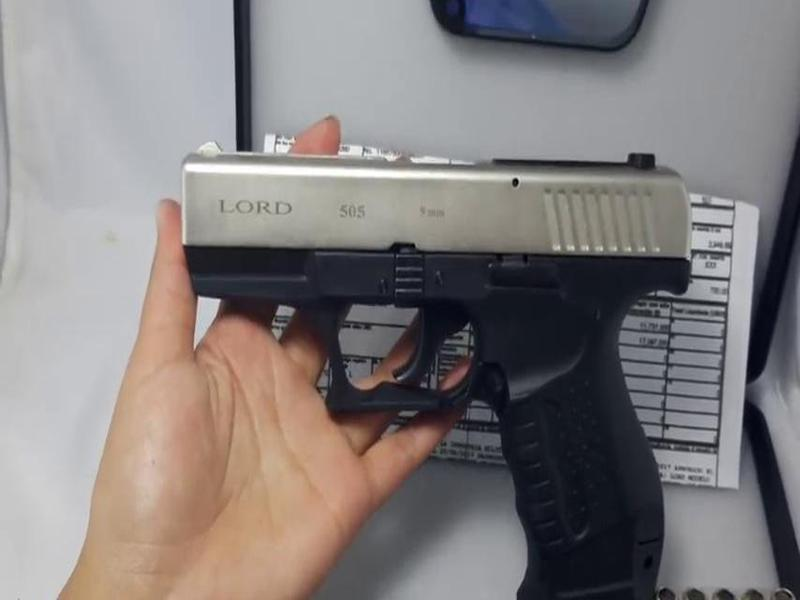Pistola: (161, 112, 710, 600)
